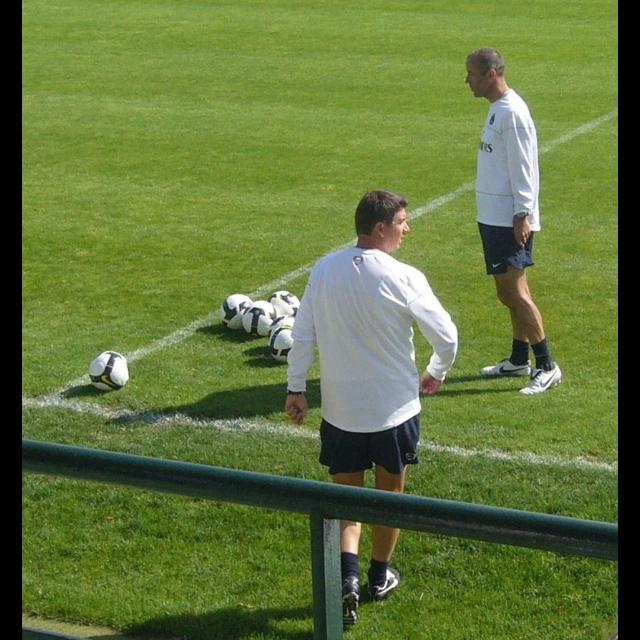Football: (219, 288, 301, 362), (89, 347, 127, 391)
